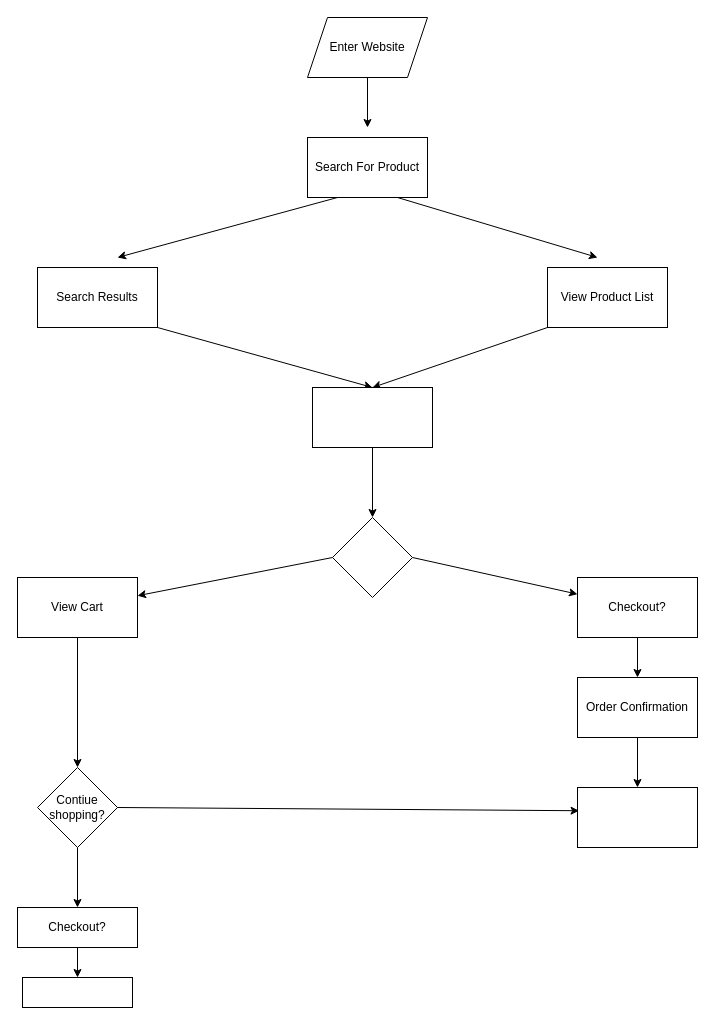
Some shapes in this 715 by 1025 pixel diagram are drawn without their labels. The shapes that lost their labels are listed below. From the top down, each one's box as (x1, y1, x2, y2) in pixels, then its label:
(312, 386, 432, 448): View Product
(332, 516, 412, 598): Add To Cart
(576, 786, 698, 848): Email
(22, 976, 132, 1008): I Leave
